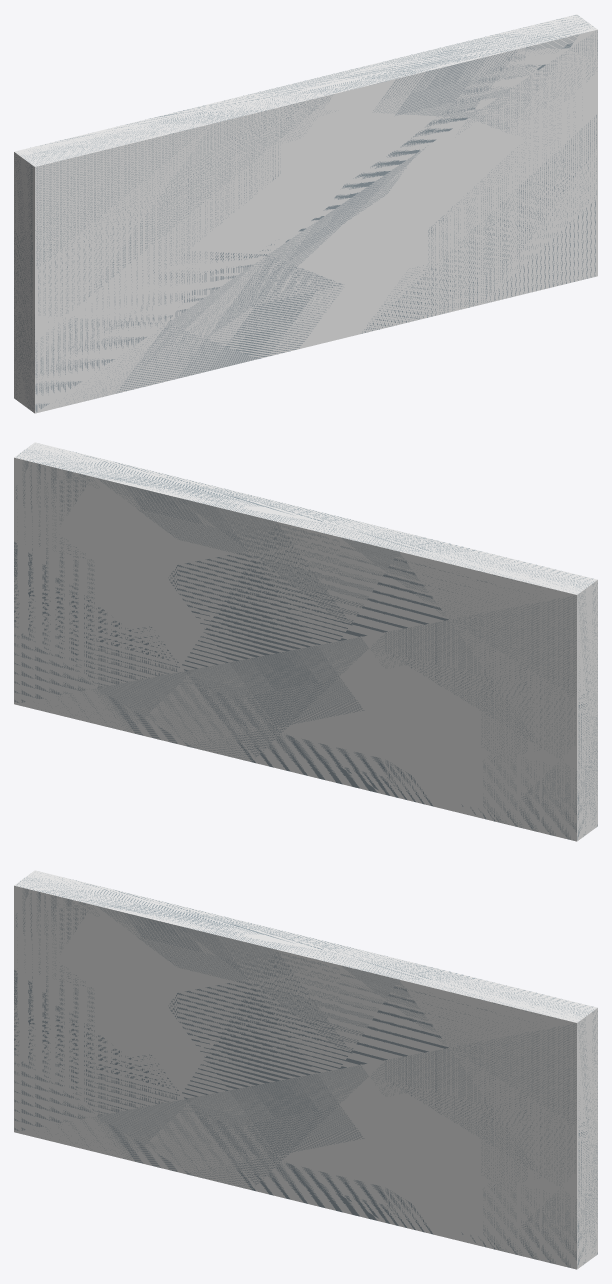
Rendered from senti-mesh-medium-2.dae.
3 renders of one model, top to bottom at view 1: azimuth 30°, elevation 25°; view 2: azimuth 150°, elevation 25°; view 3: azimuth 330°, elevation 25°, orthographic.
Visible parts, largest first — view 1: group_0; view 2: group_0; view 3: group_0.
Part boxes in pixels (x1,y1,x2,y2): group_0: (14, 14, 597, 413); group_0: (14, 442, 597, 841); group_0: (14, 870, 597, 1269).
Bounding box in the file's own units: 5.55 × 0.3576 × 2.32.
